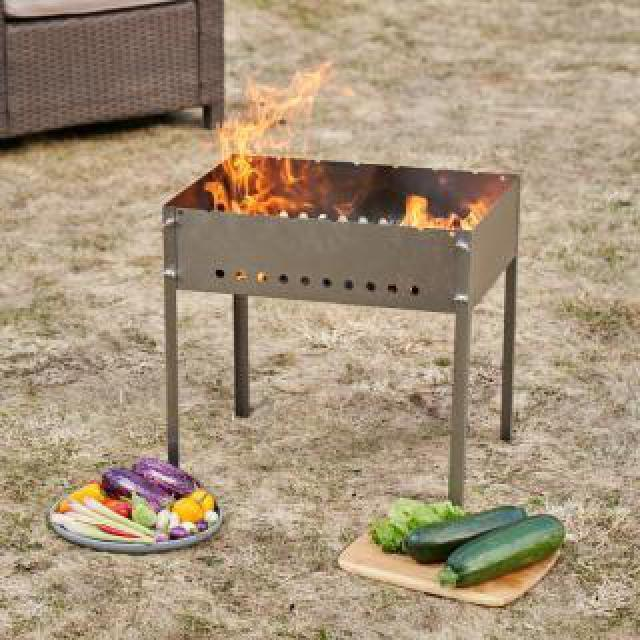Fire: (192, 64, 330, 226), (392, 166, 486, 240)
